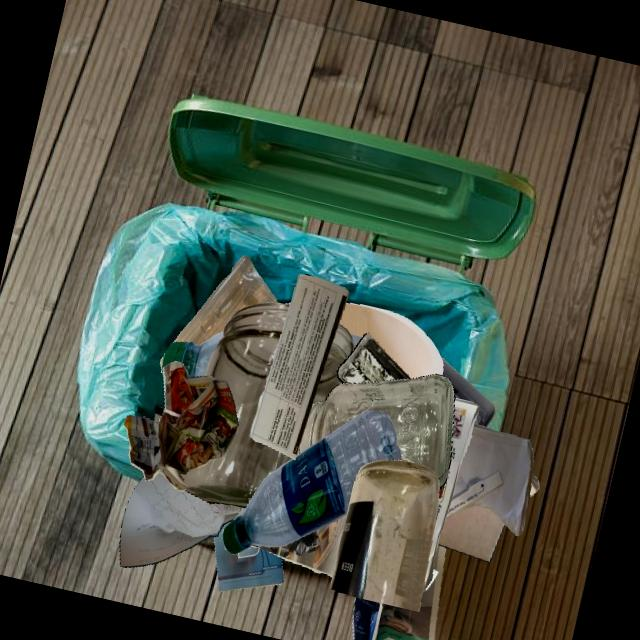combustible waste: (338, 302, 443, 378)
glass: (296, 374, 454, 489), (329, 460, 439, 612)
paper: (250, 273, 349, 460), (123, 360, 238, 491), (119, 472, 245, 567), (445, 422, 533, 535), (352, 544, 445, 640), (428, 397, 480, 558), (213, 519, 283, 591), (437, 505, 504, 562), (333, 533, 428, 569), (529, 472, 539, 497)
plastic: (222, 410, 401, 554), (173, 255, 278, 345), (441, 357, 495, 427), (337, 332, 410, 383), (161, 331, 223, 376)
